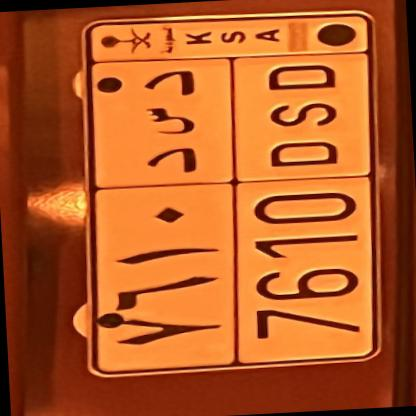english: (214, 40, 384, 368)
